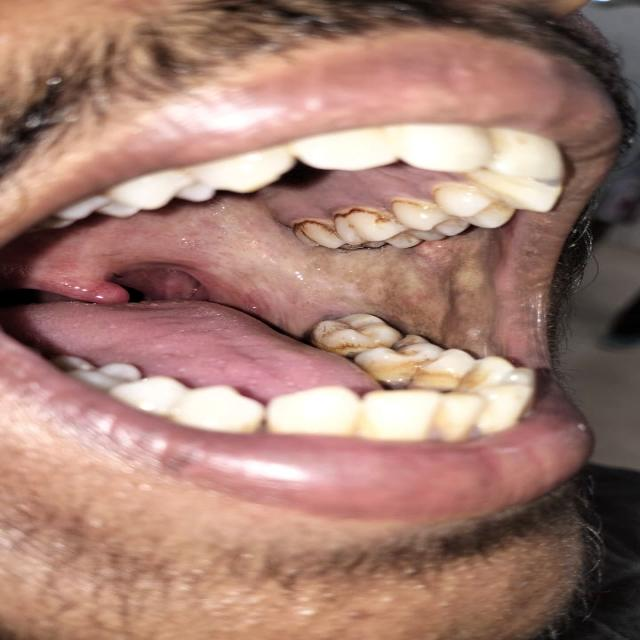leukoplakia-like-detection: (149, 204, 526, 353)
processing_area: (22, 205, 540, 392)
